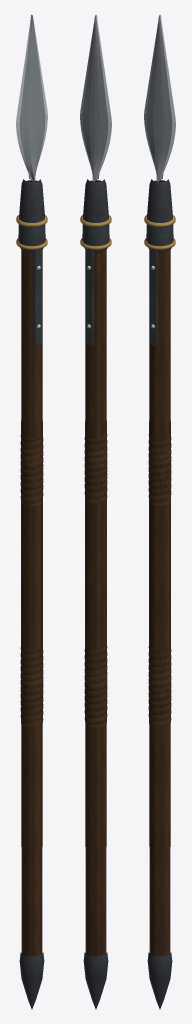
File: spear.glb
3 views of the same model, side by side, from view 1: azimuth 30°, elevation 25°; view 2: azimuth 150°, elevation 25°; view 3: azimuth 330°, elevation 25° (orthographic).
Parts seen in each view (by area): view 1: wood / oiled hardwood, leather / oiled leather wrap, darksteel / oil-blackened fittings, steel / forged blade steel, edge / honed bright bevel, brass / polished brass furniture; view 2: wood / oiled hardwood, leather / oiled leather wrap, darksteel / oil-blackened fittings, steel / forged blade steel, edge / honed bright bevel, brass / polished brass furniture; view 3: wood / oiled hardwood, leather / oiled leather wrap, darksteel / oil-blackened fittings, steel / forged blade steel, edge / honed bright bevel, brass / polished brass furniture.
Part boxes in pixels (x1,y1,x2,y2): wood / oiled hardwood: [21, 180, 42, 955]; leather / oiled leather wrap: [20, 433, 43, 727]; darksteel / oil-blackened fittings: [18, 179, 45, 1009]; steel / forged blade steel: [19, 15, 45, 181]; edge / honed bright bevel: [16, 14, 47, 328]; brass / polished brass furniture: [16, 215, 47, 249]; wood / oiled hardwood: [85, 180, 106, 955]; leather / oiled leather wrap: [84, 433, 107, 727]; darksteel / oil-blackened fittings: [82, 179, 109, 1009]; steel / forged blade steel: [82, 15, 108, 181]; edge / honed bright bevel: [80, 14, 111, 328]; brass / polished brass furniture: [80, 215, 111, 249]; wood / oiled hardwood: [149, 180, 170, 955]; leather / oiled leather wrap: [148, 433, 171, 727]; darksteel / oil-blackened fittings: [146, 179, 173, 1009]; steel / forged blade steel: [146, 15, 172, 181]; edge / honed bright bevel: [144, 14, 175, 328]; brass / polished brass furniture: [144, 215, 175, 249].
Size of the model in its own units: 0.0687 by 2.04 by 0.0582.
Materials: 6 (6 with a texture image).
